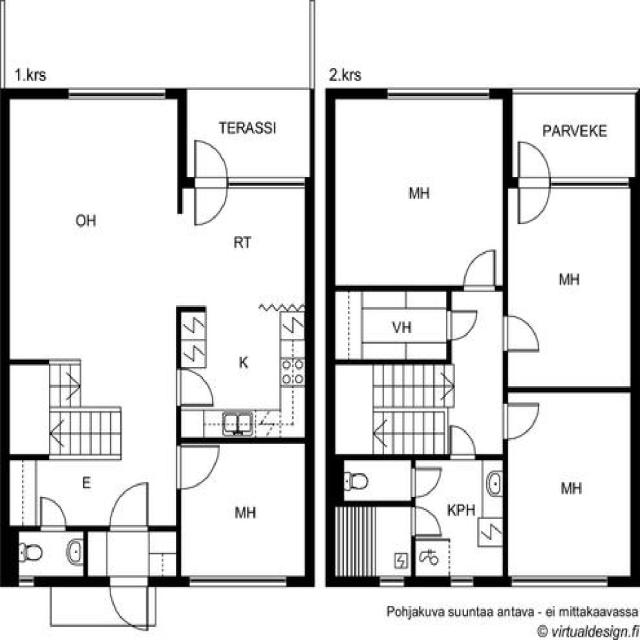door: (189, 135, 230, 227), (513, 137, 553, 225), (105, 476, 154, 534), (107, 572, 153, 632), (173, 439, 223, 493), (456, 242, 500, 294), (498, 394, 544, 442), (499, 308, 545, 356), (173, 363, 218, 408), (406, 461, 446, 500), (408, 501, 446, 542), (445, 418, 482, 460), (443, 305, 480, 344), (36, 492, 71, 532)
window: (382, 80, 494, 107), (63, 80, 170, 106), (186, 568, 290, 594), (506, 569, 616, 592), (547, 172, 633, 192), (225, 172, 309, 192), (372, 571, 409, 591), (444, 571, 481, 590), (12, 572, 42, 590)
zone: (0, 94, 179, 374), (332, 93, 509, 288), (189, 183, 308, 443), (503, 177, 639, 388), (505, 388, 636, 580), (178, 438, 312, 580), (410, 453, 508, 579), (331, 363, 446, 452), (329, 290, 451, 362), (330, 501, 413, 582), (85, 526, 182, 582), (12, 529, 85, 579), (335, 457, 414, 502)
